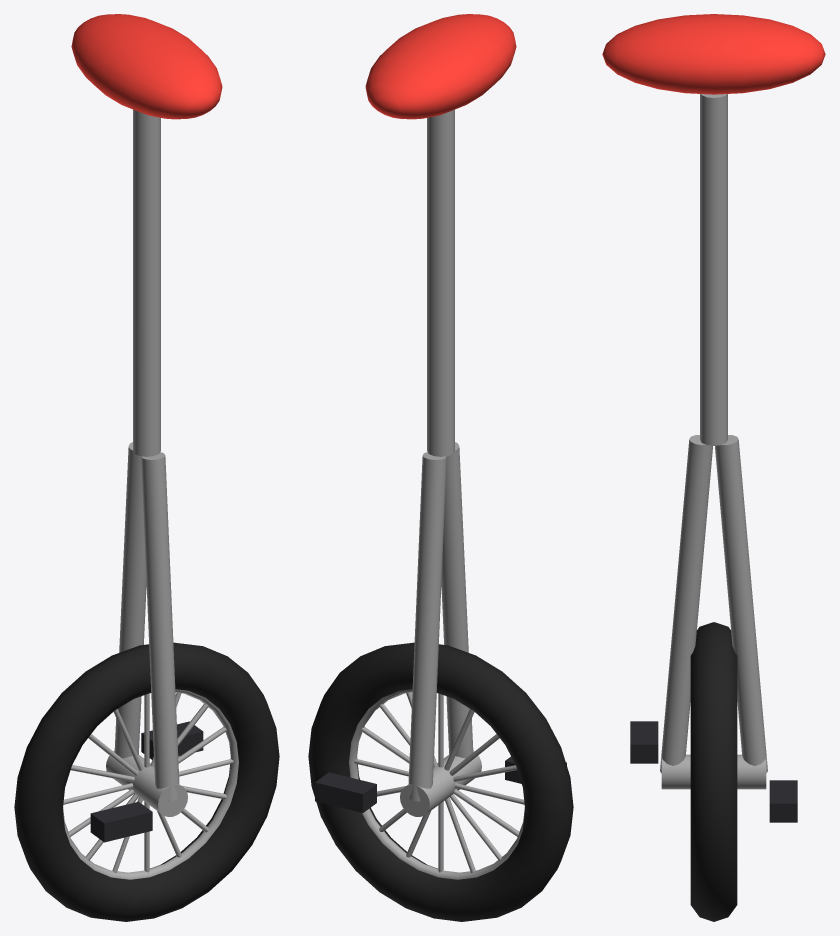
File: unicycle.fbx
3 renders of one model, left to right at view 1: azimuth 30°, elevation 25°; view 2: azimuth 150°, elevation 25°; view 3: azimuth 270°, elevation 25°, orthographic.
Parts seen in each view (by area): view 1: Unicycle; view 2: Unicycle; view 3: Unicycle.
Part boxes in pixels (x1,y1,x2,y2): Unicycle: [14, 14, 279, 921]; Unicycle: [308, 14, 573, 921]; Unicycle: [602, 14, 825, 921].
Size of the model in its own units: 0.86 by 2.8 by 0.64.
